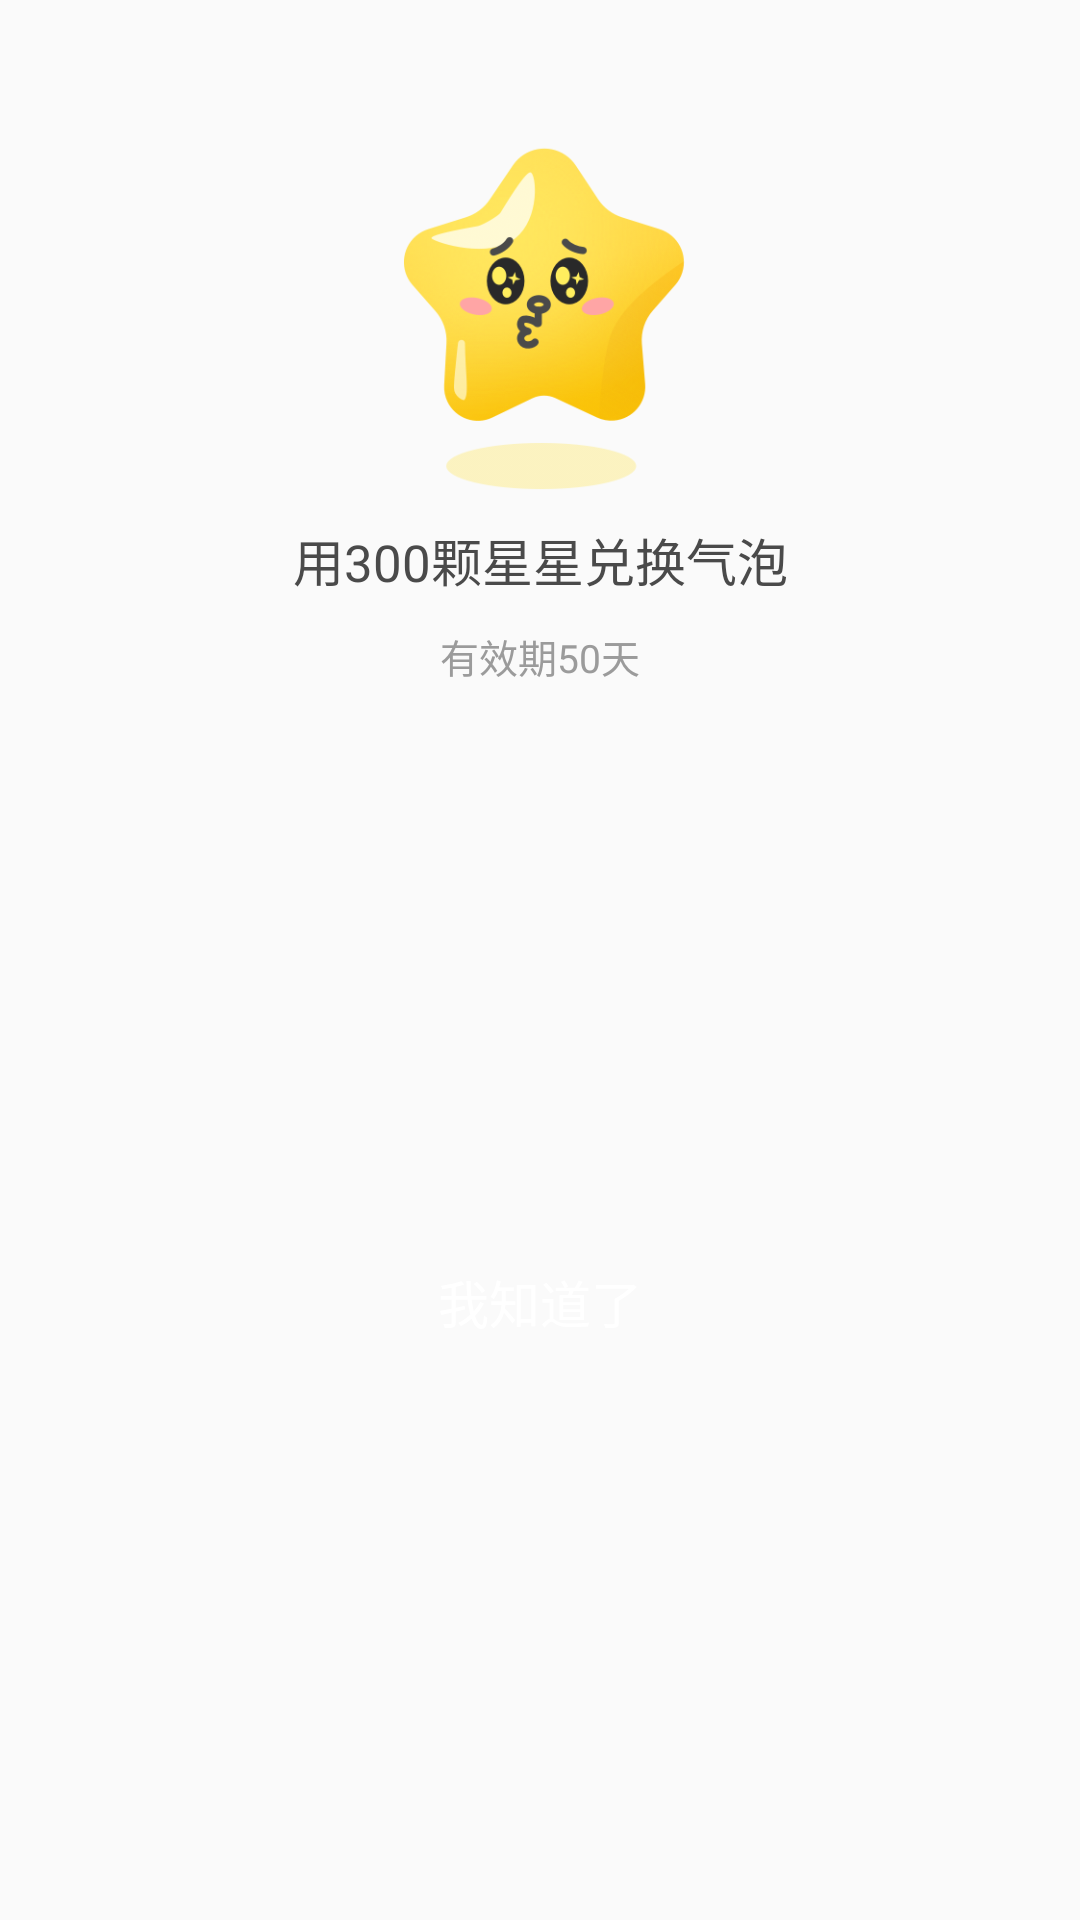

Named icons in this screenshot (1080x1920) and their centers, point (x, y):
bubble star no enough: point (544, 318)
